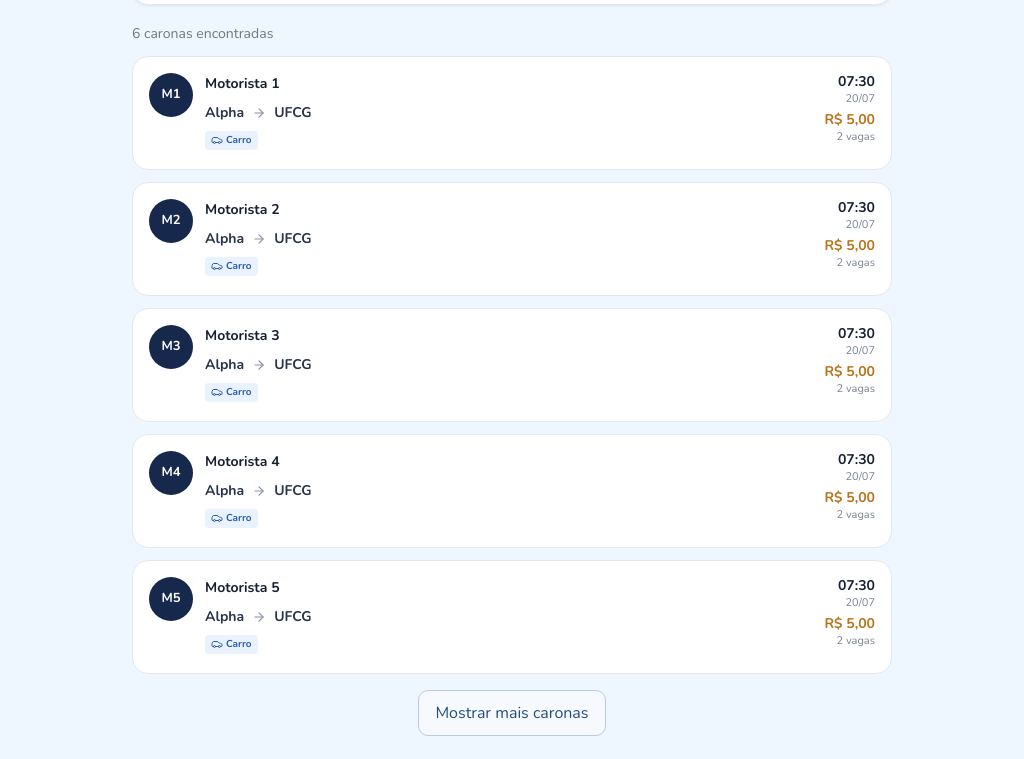
caronasFiltradas — filtros padrão e aliases › exibe cinco caronas por vez e mostra as demais sob demanda
(page scrolled)
Expected: the text "Motorista 5" is shown, [205,577,280,598]
Expected: the text "Motorista 6" is not shown
Click the button "Mostrar mais caronas" at (512, 713), box [418,690,606,736]
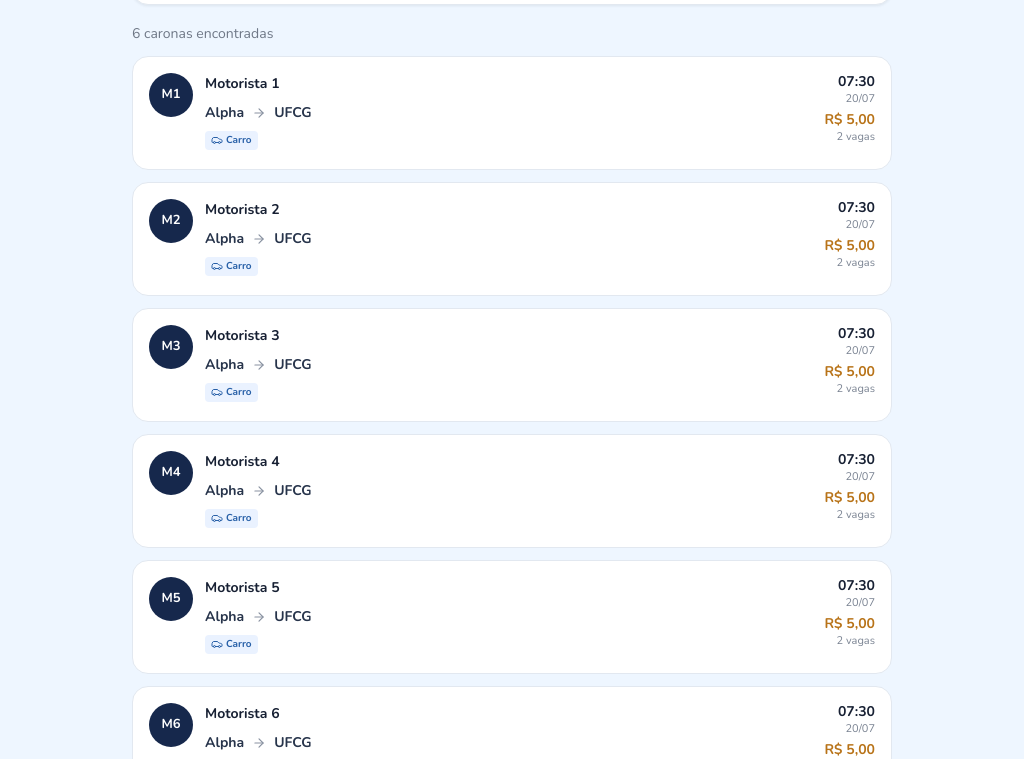
Expected: the text "Motorista 6" is shown, [205,703,280,724]
Expected: the button "Mostrar mais caronas" is gone
